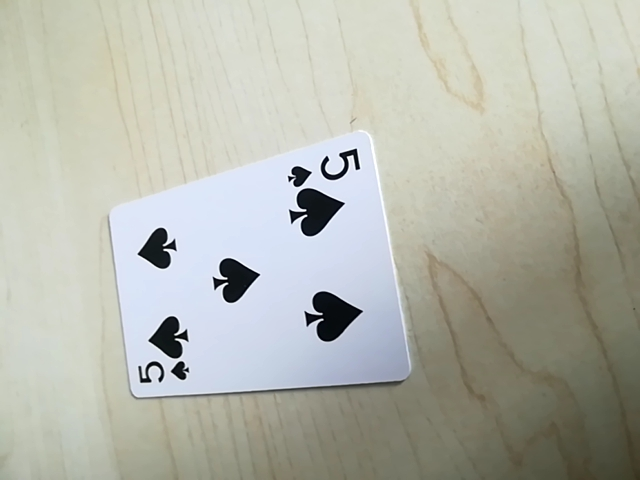ht 5: (286, 146, 363, 186), (129, 355, 194, 394)
